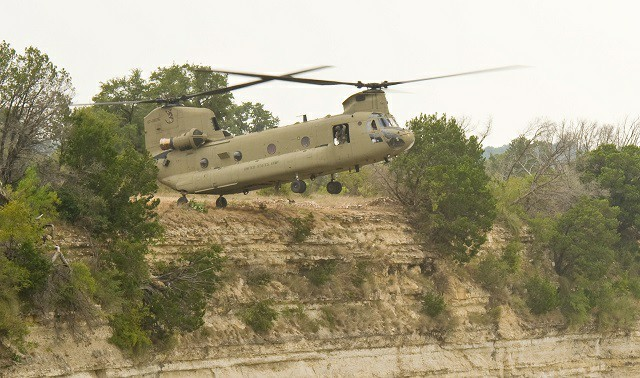chinook: (102, 66, 455, 209)
